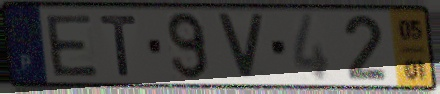2: (345, 12, 392, 84)
4: (290, 10, 336, 85)
9: (165, 9, 212, 84)
E: (42, 13, 101, 79)
T: (97, 13, 140, 79)
V: (213, 11, 267, 83)
